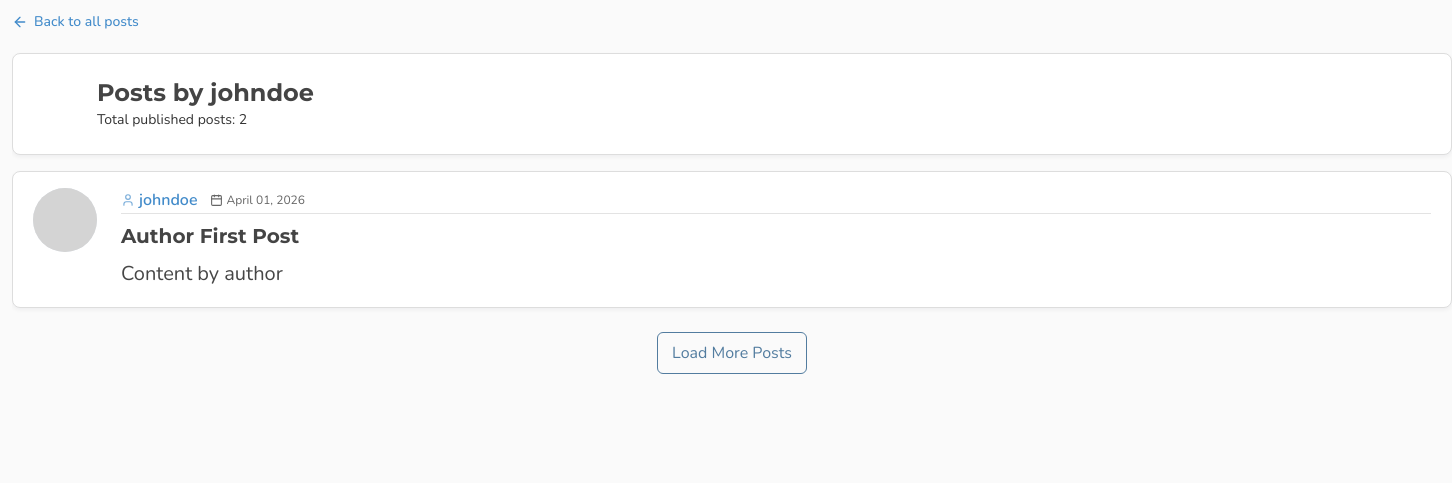
Test: app/users/[userId]/posts/page (UserPosts) › handles incremental pagination failure, displays retry notice, and recovers on retry
This screenshot has width=1452, height=483.
expect the link "Author First Post" is shown: met, box [121,224,299,248]
Click the button "Load More Posts" at (732, 352), box [657,332,807,374]
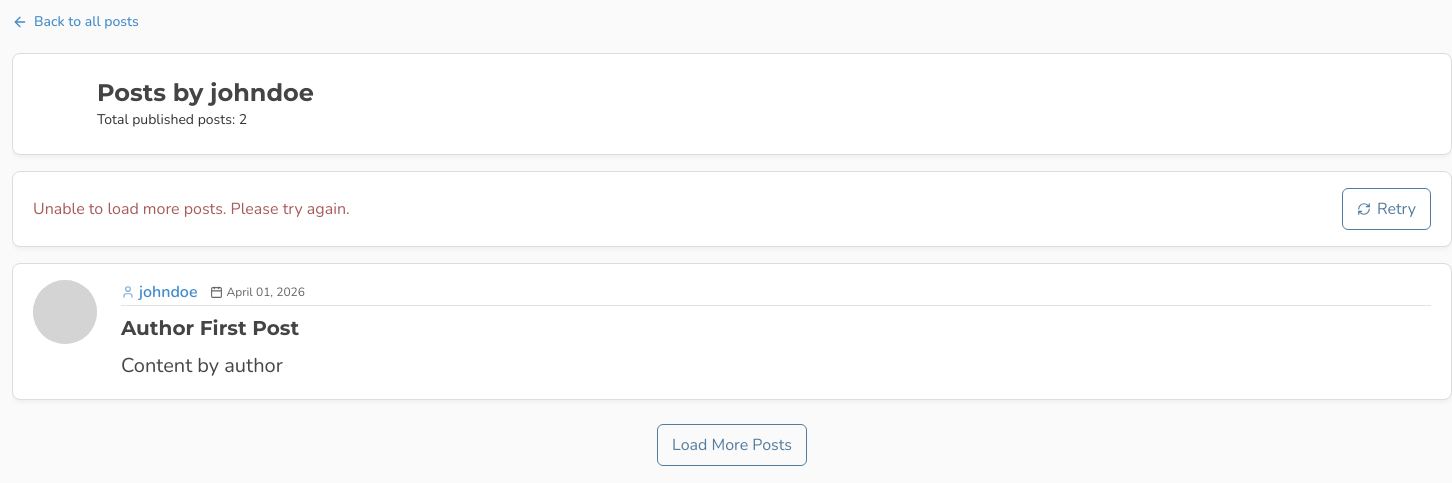
expect the link "Author First Post" is shown: met, box [121,316,299,340]
expect the text "Unable to load more posts. Please try again." is shown: met, box [33,197,350,221]
// Click retry on inline error banner
Click the button "Retry" at (1386, 209), box [1342,188,1431,230]
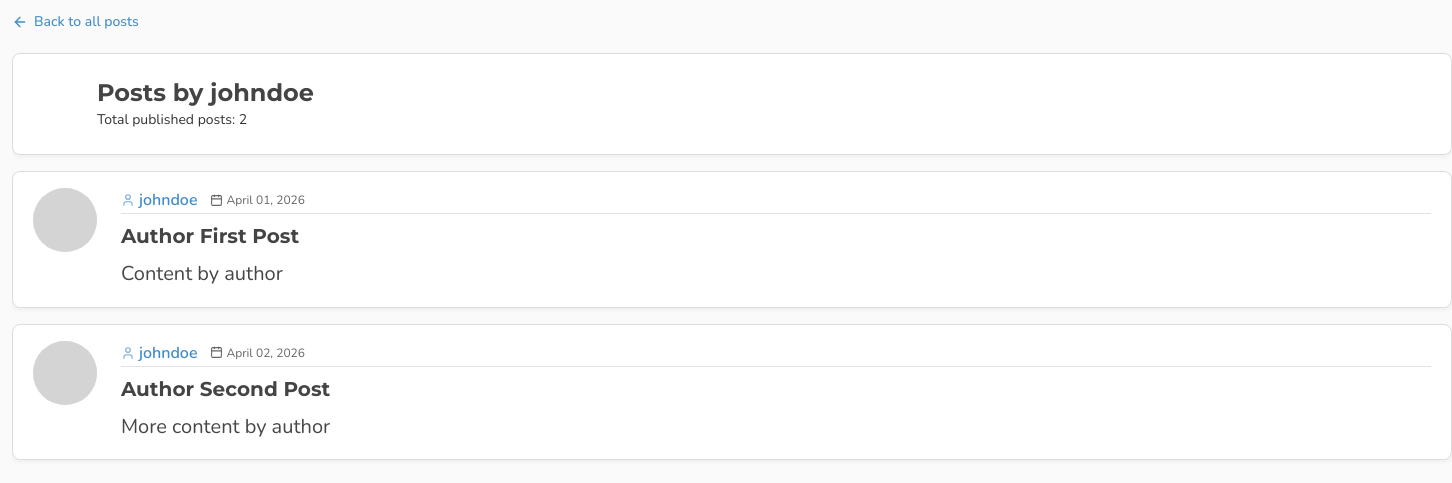
expect the link "Author Second Post" is shown: met, box [121,376,330,400]
expect the text "Unable to load more posts. Please try again." is gone: met
